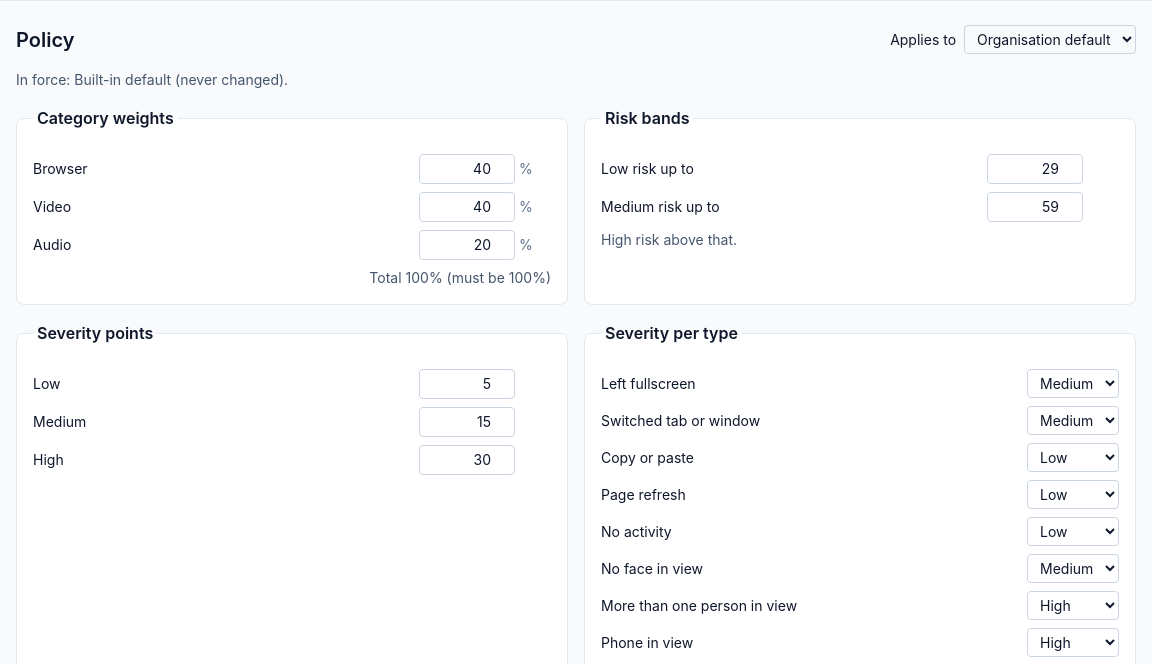
Test case: policy settings › enforces weights summing to 100 before saving
Replace the text in the number field labelled "Browser" with "50" at (467, 169), box [419, 154, 515, 184]
(page scrolled)
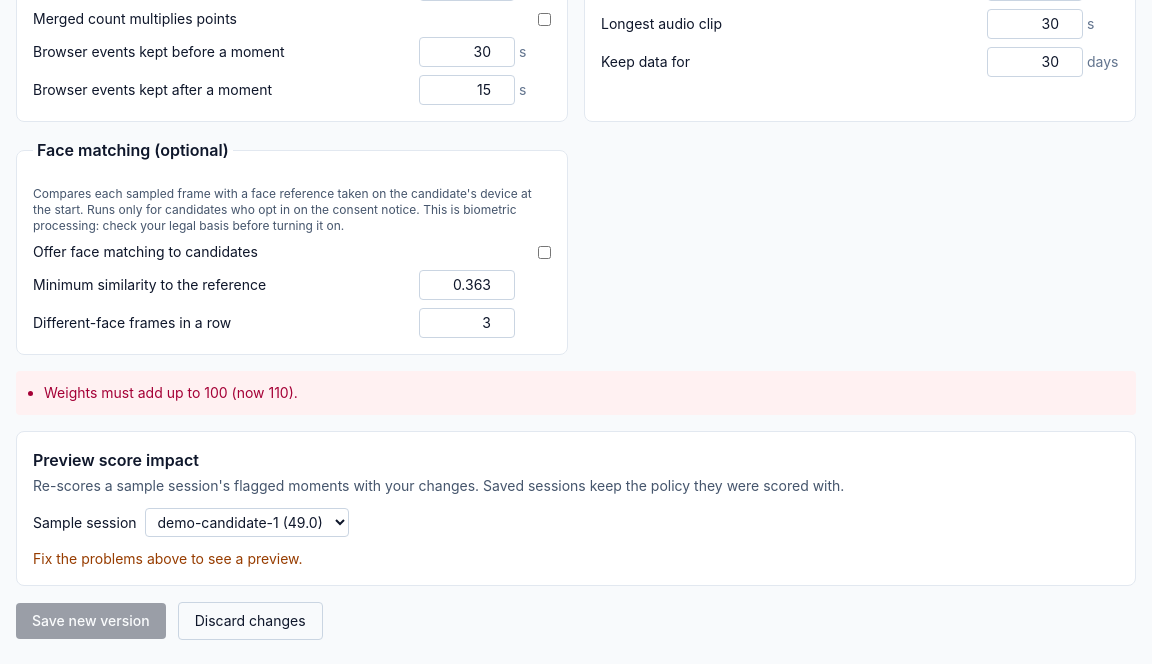
Expected: the button "Save new version" is disabled, [16, 603, 166, 639]
Expected: the message reads "Weights must add up to 100 (now 110).", [44, 384, 298, 401]
